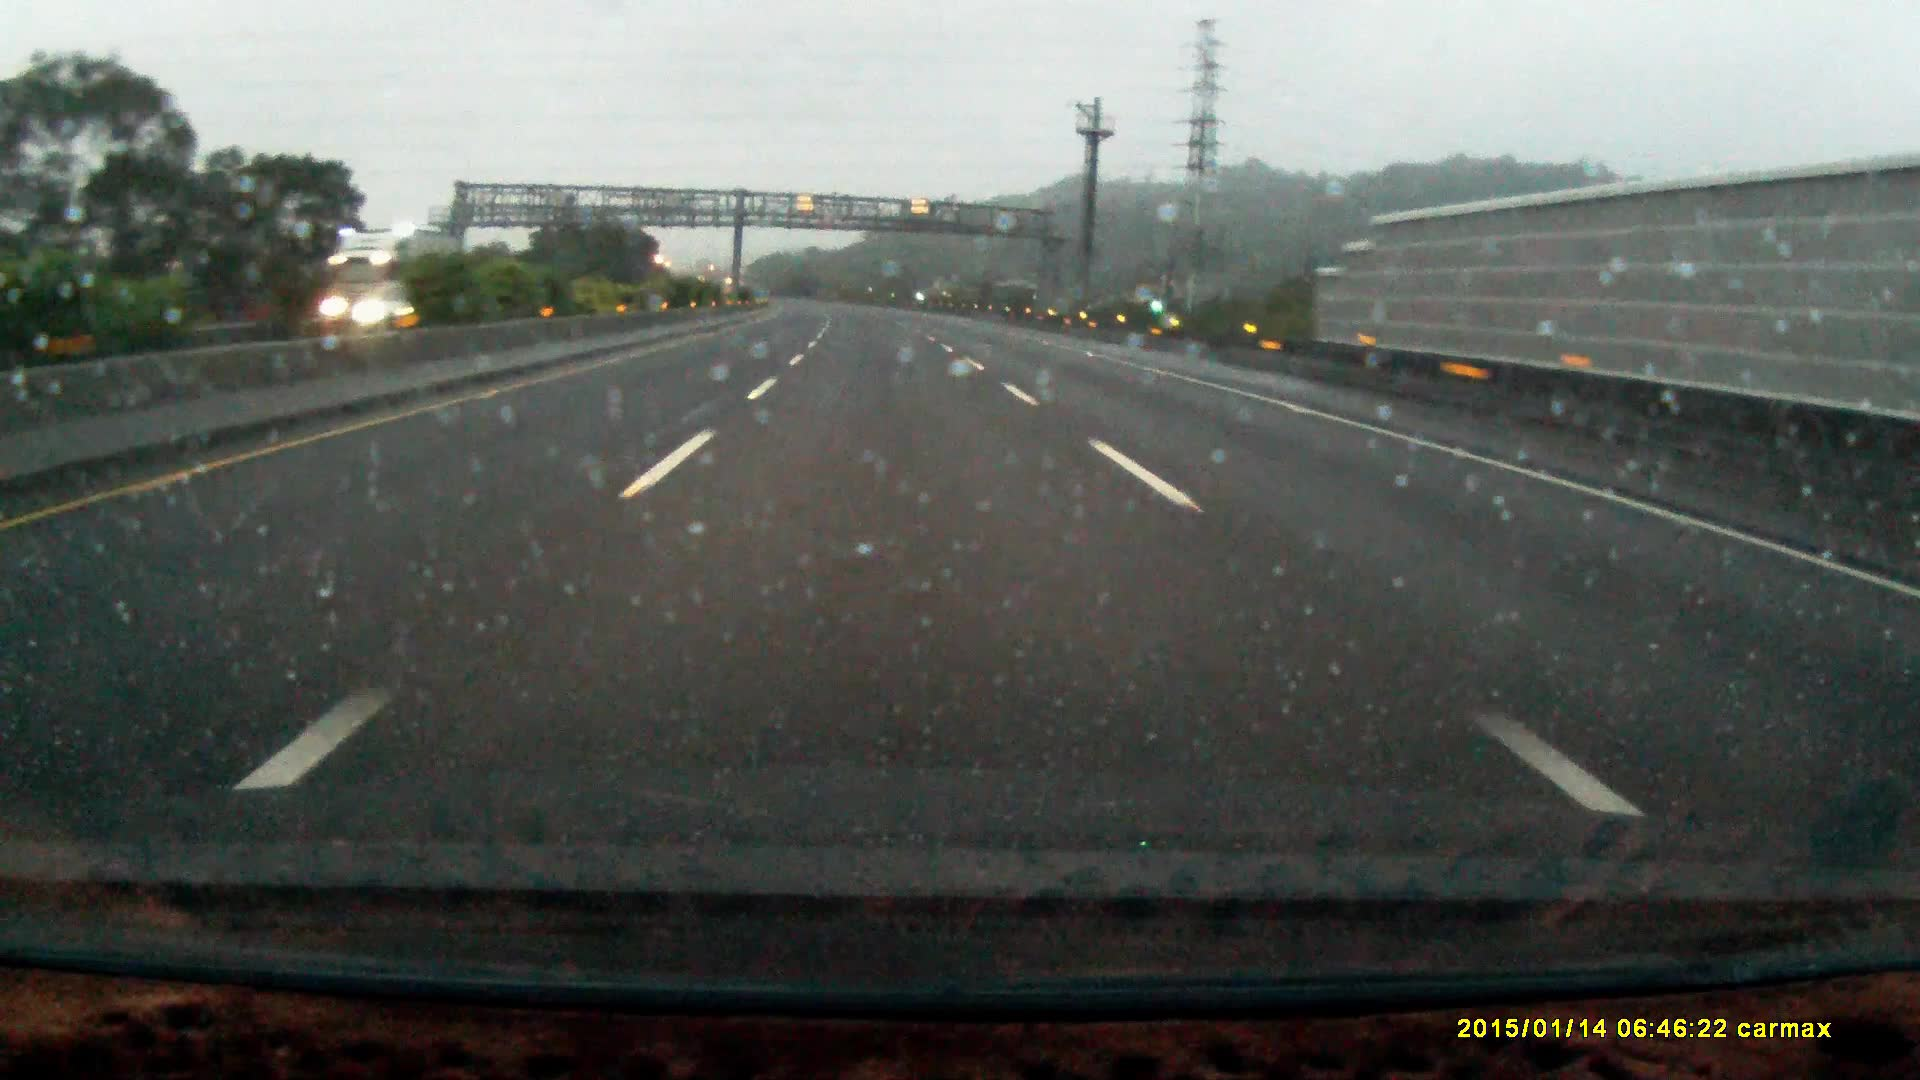vehicle: (320, 231, 460, 326), (352, 281, 439, 327)
